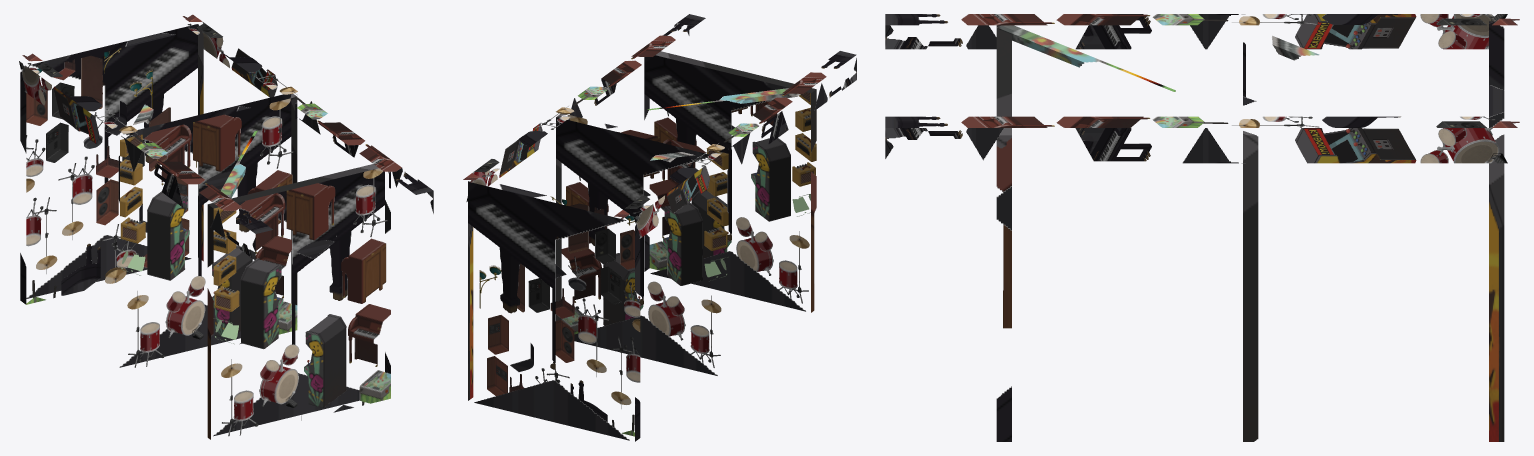
3 renders of one model, left to right at view 1: azimuth 30°, elevation 25°; view 2: azimuth 150°, elevation 25°; view 3: azimuth 270°, elevation 25°, orthographic. The views are drawn at different scales.
Bounding box in the file's own units: 0.702 × 0.901 × 1.65.
